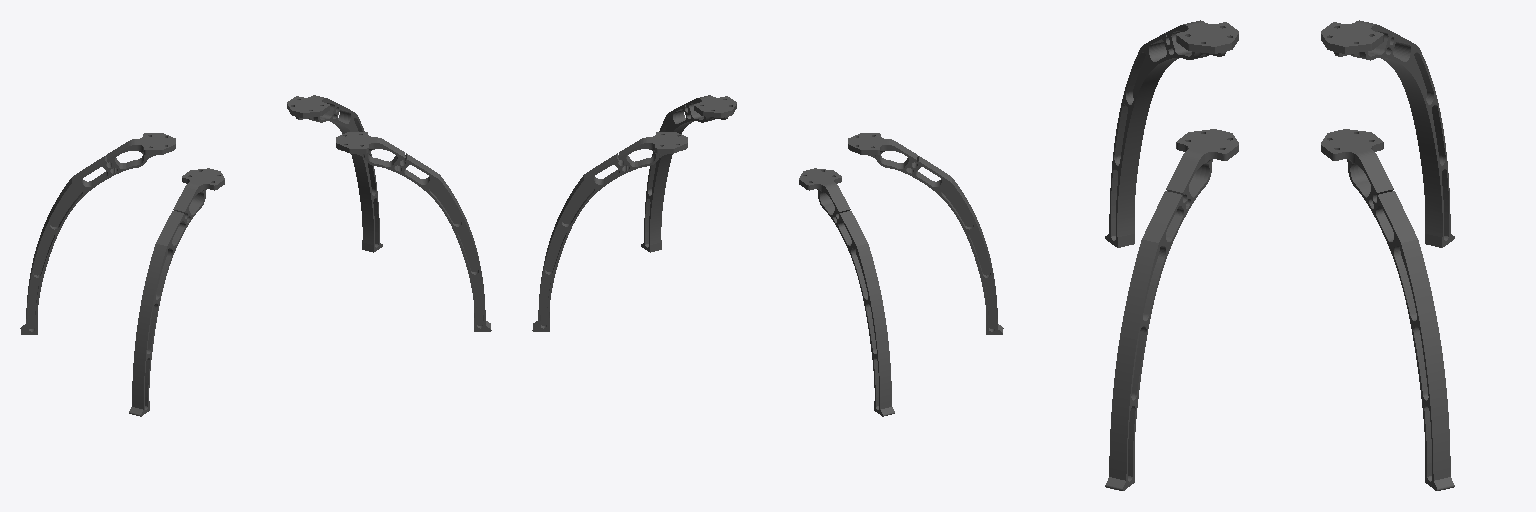
robot.urdf — robot:
<?xml version="1.0" encoding="utf-8"?>
<!-- =================================================================================== -->
<!-- |    This document was autogenerated by xacro from frame.xacro                    | -->
<!-- |    EDITING THIS FILE BY HAND IS NOT RECOMMENDED                                 | -->
<!-- =================================================================================== -->
<robot>
  <link name="base_link">
    <collision name="frame">
      <origin rpy="0 0 0" xyz="0 0 0.02"/>
      <geometry>
        <cylinder length="0.04" radius="0.3"/>
      </geometry>
    </collision>
    <collision name="rollcage">
      <origin rpy="0 0 0" xyz="0 0 0.066"/>
      <geometry>
        <cylinder length="0.06" radius="0.10"/>
      </geometry>
    </collision>
    <collision name="lander">
      <origin rpy="0 0 0" xyz="0 0 -0.08"/>
      <geometry>
        <box size="0.3 0.2 0.16"/>
      </geometry>
    </collision>
    <inertial>
      <origin rpy="0 0 0" xyz="0 0 -0.1"/>
      <mass value="1.0"/>
      <inertia ixx="0.038" ixy="0.0" ixz="0.0" iyy="0.043" iyz="0.0" izz="0.0068"/>
    </inertial>
    <visual>
      <origin rpy="0 0 0" xyz="0 0 0"/>
      <geometry>
        <mesh filename="package://wasp_gazebo/meshes/core.dae"/>
      </geometry>
    </visual>
    <visual name="arm_0">
      <origin rpy="0 0 1.57079632679" xyz="0.075 0.0 0.0125"/>
      <geometry>
        <mesh filename="model://wasp/meshes/wasp_arm.dae"/>
      </geometry>
      <material name="black"/>
    </visual>
    <visual name="motor_0">
      <origin rpy="0 0 0" xyz="0.277 0.0 0.0125"/>
      <geometry>
        <mesh filename="model://wasp/meshes/wasp_motor.dae"/>
      </geometry>
      <material name="black"/>
    </visual>
    <visual name="arm_1">
      <origin rpy="0 0 2.61799387799" xyz="0.0375 0.0649519052838 0.0125"/>
      <geometry>
        <mesh filename="model://wasp/meshes/wasp_arm.dae"/>
      </geometry>
      <material name="black"/>
    </visual>
    <visual name="motor_1">
      <origin rpy="0 0 0" xyz="0.1385 0.239889036848 0.0125"/>
      <geometry>
        <mesh filename="model://wasp/meshes/wasp_motor.dae"/>
      </geometry>
      <material name="black"/>
    </visual>
    <visual name="arm_2">
      <origin rpy="0 0 3.66519142919" xyz="-0.0375 0.0649519052838 0.0125"/>
      <geometry>
        <mesh filename="model://wasp/meshes/wasp_arm.dae"/>
      </geometry>
      <material name="black"/>
    </visual>
    <visual name="motor_2">
      <origin rpy="0 0 0" xyz="-0.1385 0.239889036848 0.0125"/>
      <geometry>
        <mesh filename="model://wasp/meshes/wasp_motor.dae"/>
      </geometry>
      <material name="black"/>
    </visual>
    <visual name="arm_3">
      <origin rpy="0 0 4.71238898038" xyz="-0.075 9.18485099361e-18 0.0125"/>
      <geometry>
        <mesh filename="model://wasp/meshes/wasp_arm.dae"/>
      </geometry>
      <material name="black"/>
    </visual>
    <visual name="motor_3">
      <origin rpy="0 0 0" xyz="-0.277 3.39227163364e-17 0.0125"/>
      <geometry>
        <mesh filename="model://wasp/meshes/wasp_motor.dae"/>
      </geometry>
      <material name="black"/>
    </visual>
    <visual name="arm_4">
      <origin rpy="0 0 5.75958653158" xyz="-0.0375 -0.0649519052838 0.0125"/>
      <geometry>
        <mesh filename="model://wasp/meshes/wasp_arm.dae"/>
      </geometry>
      <material name="black"/>
    </visual>
    <visual name="motor_4">
      <origin rpy="0 0 0" xyz="-0.1385 -0.239889036848 0.0125"/>
      <geometry>
        <mesh filename="model://wasp/meshes/wasp_motor.dae"/>
      </geometry>
      <material name="black"/>
    </visual>
    <visual name="arm_5">
      <origin rpy="0 0 6.80678408278" xyz="0.0375 -0.0649519052838 0.0125"/>
      <geometry>
        <mesh filename="model://wasp/meshes/wasp_arm.dae"/>
      </geometry>
      <material name="black"/>
    </visual>
    <visual name="motor_5">
      <origin rpy="0 0 0" xyz="0.1385 -0.239889036848 0.0125"/>
      <geometry>
        <mesh filename="model://wasp/meshes/wasp_motor.dae"/>
      </geometry>
      <material name="black"/>
    </visual>
    <visual name="leg_0">
      <origin rpy="0 0 2.07750481931" xyz="0.0804398886853 0.0446477805529 -0.063"/>
      <geometry>
        <mesh filename="model://wasp/meshes/wasp_leg.dae"/>
      </geometry>
      <material name="black"/>
    </visual>
    <visual name="leg_1">
      <origin rpy="0 0 1.06408783428" xyz="0.0804398886853 -0.0446477805529 -0.063"/>
      <geometry>
        <mesh filename="model://wasp/meshes/wasp_leg.dae"/>
      </geometry>
      <material name="black"/>
    </visual>
    <visual name="leg_2">
      <origin rpy="0 0 5.2190974729" xyz="-0.0804398886853 -0.0446477805529 -0.063"/>
      <geometry>
        <mesh filename="model://wasp/meshes/wasp_leg.dae"/>
      </geometry>
      <material name="black"/>
    </visual>
    <visual name="leg_3">
      <origin rpy="0 0 4.20568048787" xyz="-0.0804398886853 0.0446477805529 -0.063"/>
      <geometry>
        <mesh filename="model://wasp/meshes/wasp_leg.dae"/>
      </geometry>
      <material name="black"/>
    </visual>
  </link>
</robot>

--- What the picture shows (computed from the rendered views, not written in the file) ---
The picture shows the robot from 3 angles, left to right: view 1: azimuth 30°, elevation 25°; view 2: azimuth 150°, elevation 25°; view 3: azimuth 270°, elevation 25°; orthographic projection.
Model robot with 1 links and 0 joints (none), rooted at base_link, posed all joints at 0.
Visible links, largest first — view 1: base_link; view 2: base_link; view 3: base_link.
Boxes of the visible links, bbox=[...] form: base_link: bbox=[20, 95, 491, 416]; base_link: bbox=[532, 95, 1003, 416]; base_link: bbox=[1105, 20, 1454, 490].
Bounding box of the posed robot: 0.3087 × 0.1774 × 0.1545 m (x, y, z).
Meshes: 4 distinct files referenced, 4 mesh visuals loaded (1 Collada DAE); not drawn: 13 (reference not matched to a file when rendering).